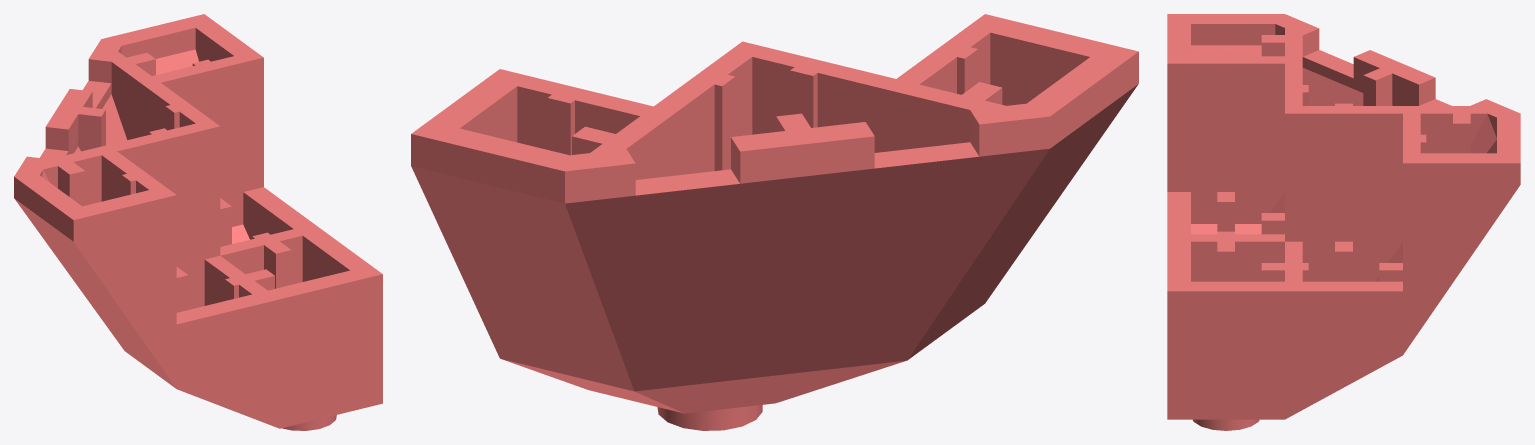
3 views of the same model, side by side, from view 1: azimuth 30°, elevation 25°; view 2: azimuth 150°, elevation 25°; view 3: azimuth 270°, elevation 25° (orthographic). The views are drawn at different scales.
Visible parts, largest first — view 1: LDrawPart; view 2: LDrawPart; view 3: LDrawPart.
Part boxes in pixels (x1,y1,x2,y2): LDrawPart: [14, 14, 382, 430]; LDrawPart: [411, 14, 1138, 430]; LDrawPart: [1167, 14, 1520, 430].
Size of the model in its own units: 0.42 by 0.364 by 0.42.
